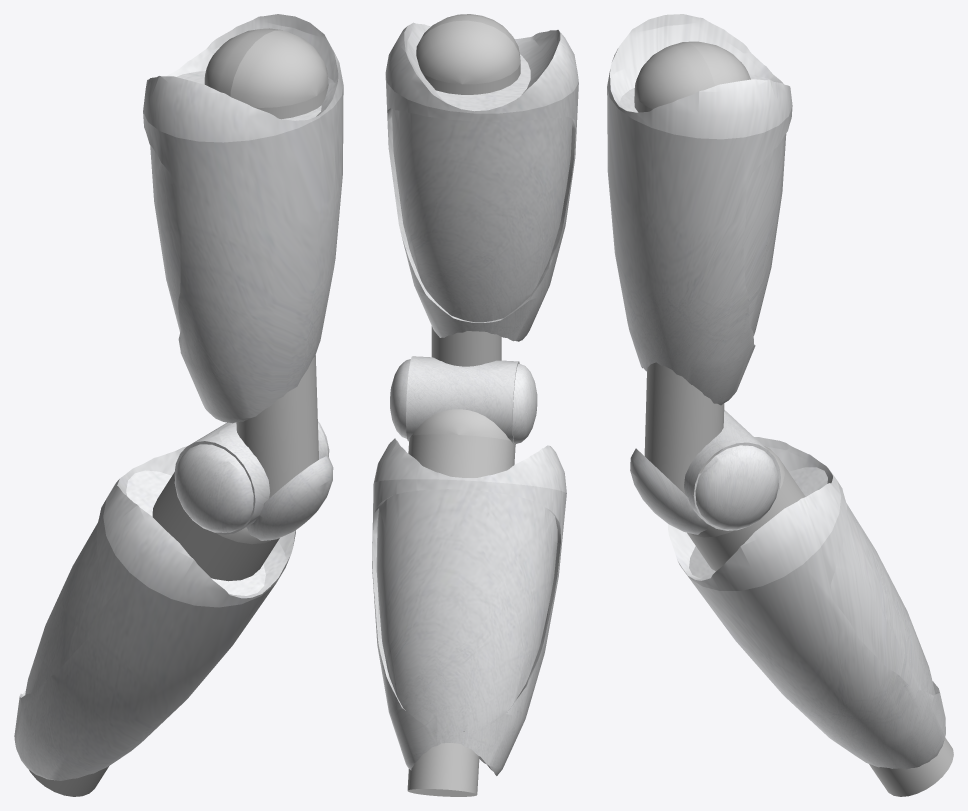
The model's file is robotarm.dae.
3 views of the same model, side by side, from view 1: azimuth 30°, elevation 25°; view 2: azimuth 150°, elevation 25°; view 3: azimuth 270°, elevation 25° (orthographic). The views are drawn at different scales.
Parts seen in each view (by area): view 1: ID68, ID18, ID93, group_7, group_8, group_4, group_2; view 2: ID18, ID68, ID93, group_7, group_4, group_2, group_8; view 3: ID68, ID18, ID93, group_8, group_7, group_4, group_2.
Boxes of the visible parts, <box> form: ID68: <box>143,14,343,423</box>; ID18: <box>14,446,295,780</box>; ID93: <box>174,421,333,540</box>; group_7: <box>204,28,328,119</box>; group_8: <box>236,355,318,498</box>; group_4: <box>152,472,279,581</box>; group_2: <box>29,766,108,796</box>; ID18: <box>372,438,566,775</box>; ID68: <box>385,22,578,341</box>; ID93: <box>390,356,537,444</box>; group_7: <box>416,14,520,94</box>; group_4: <box>408,409,515,477</box>; group_2: <box>407,743,479,796</box>; group_8: <box>431,326,501,366</box>; ID68: <box>607,14,792,405</box>; ID18: <box>668,437,945,769</box>; ID93: <box>630,410,780,534</box>; group_8: <box>644,362,724,494</box>; group_7: <box>634,41,750,112</box>; group_4: <box>687,446,805,571</box>; group_2: <box>869,737,953,796</box>.
Size of the model in its own units: 40.85 by 140 by 56.46.
Materials: 2 (1 with a texture image).
